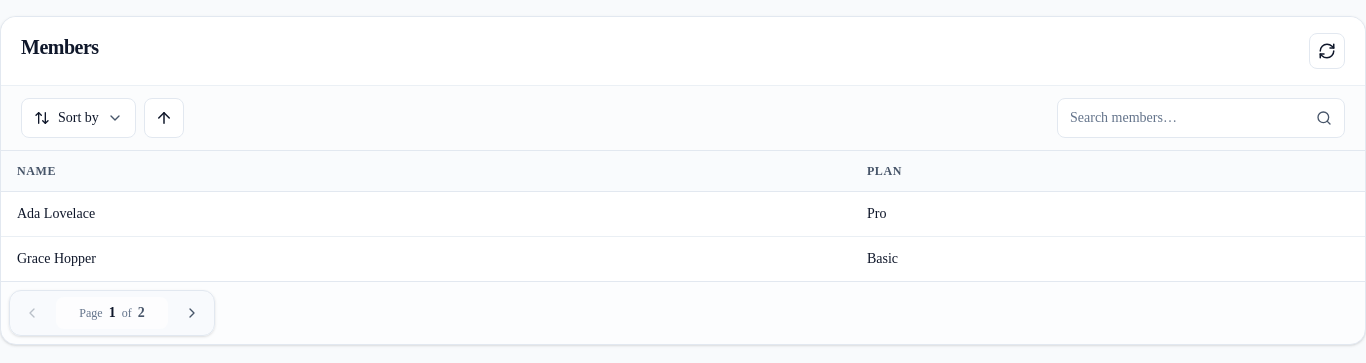
Scenario: TableRenderer › maps UI pagination to 0-based backend pages
The width and height of the screenshot is (1366, 363).
Click the button named "Go to next page".
click(192, 312)  # box left=174, top=294, right=210, bottom=330
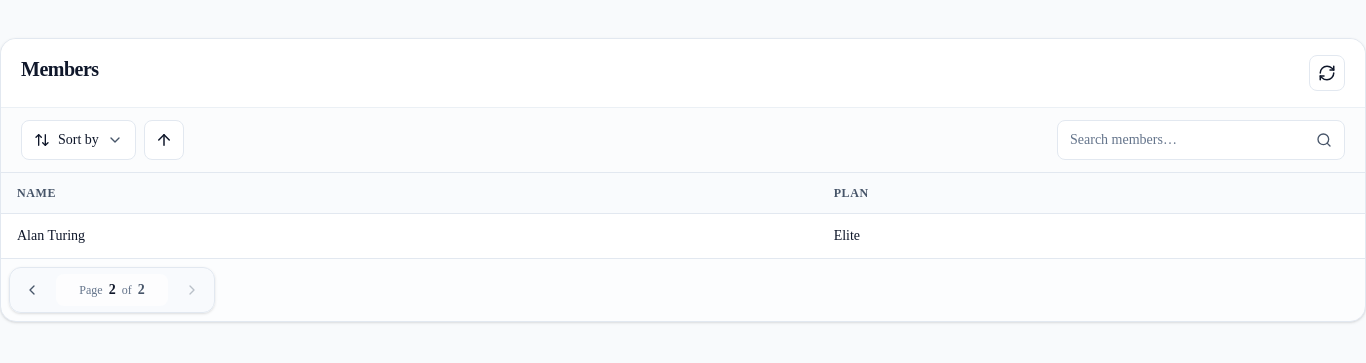
Now the cell "Alan Turing" is shown, box left=1, top=214, right=818, bottom=258
